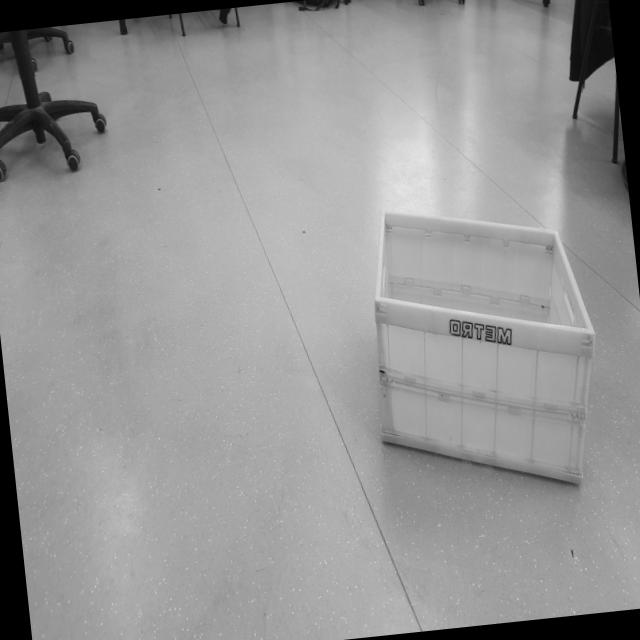box: (351, 183, 612, 508)
